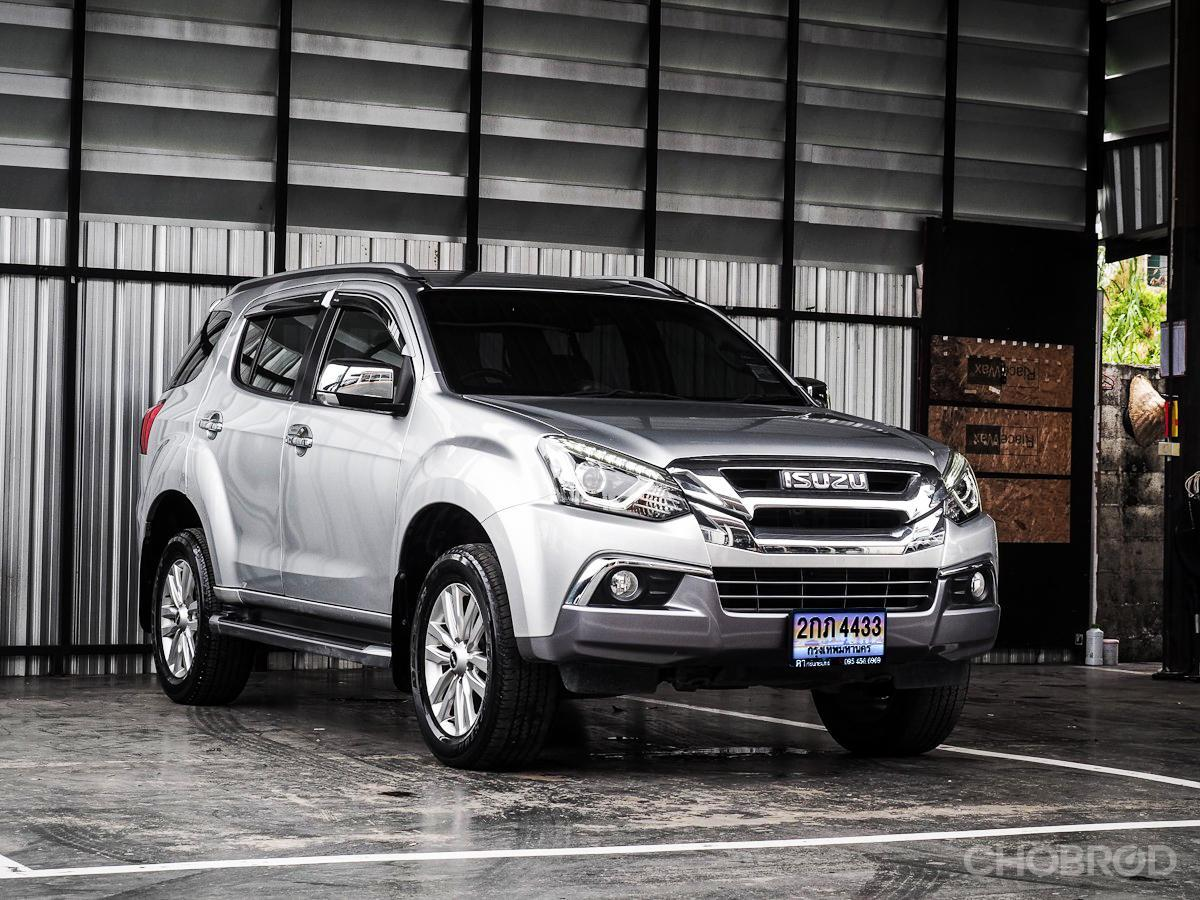license-plate: (783, 601, 890, 676)
